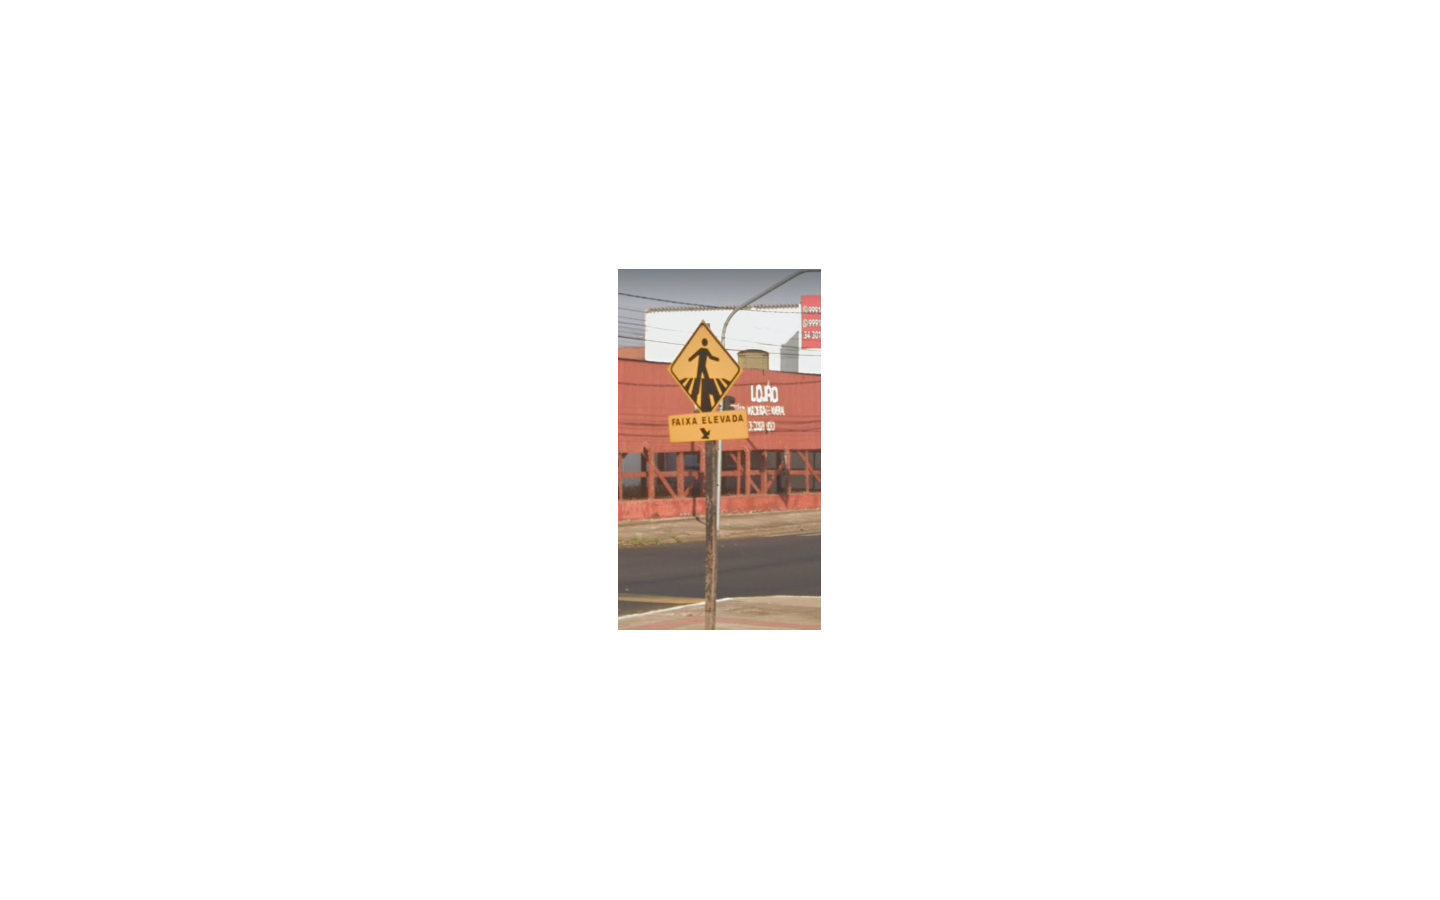telev: (668, 321, 747, 445)
